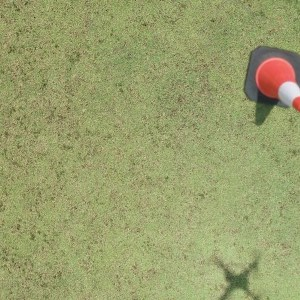traffic cone: (243, 45, 300, 112)
